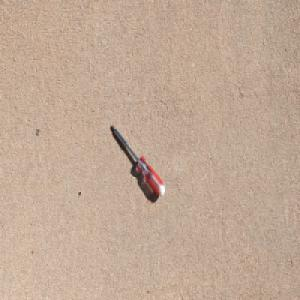Screwdriver: (110, 122, 167, 199)
